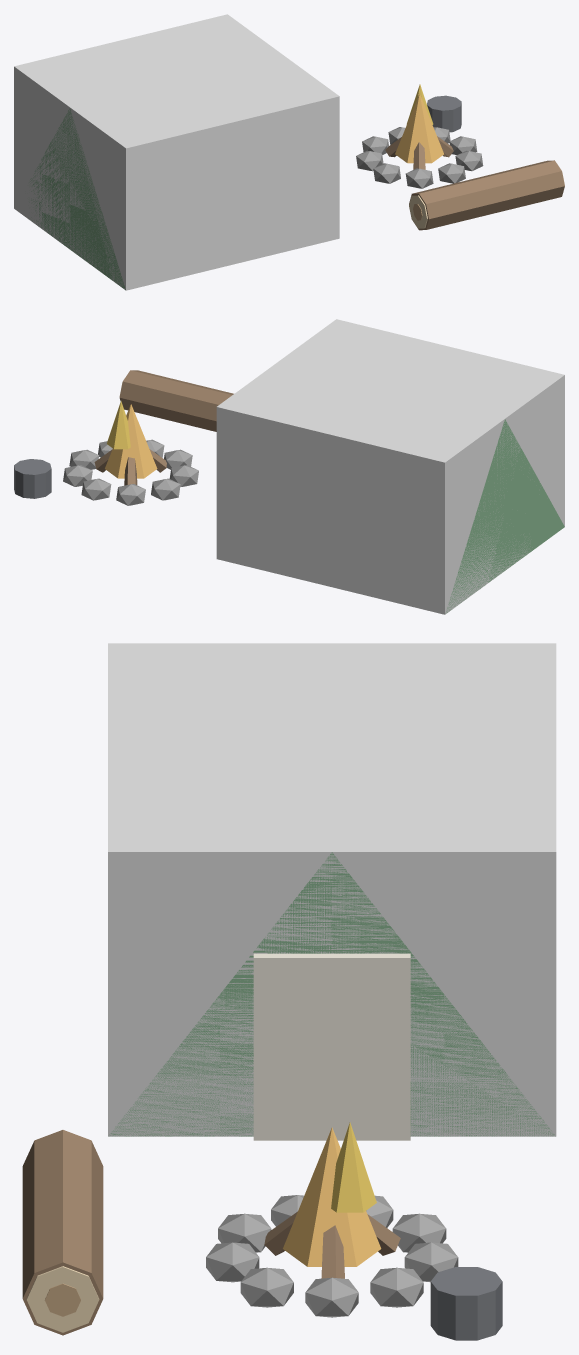
The model's file is Campsite.fbx.
The picture shows the model from 3 angles, top to bottom: view 1: azimuth 30°, elevation 25°; view 2: azimuth 150°, elevation 25°; view 3: azimuth 270°, elevation 25°; orthographic projection. The views are drawn at different scales.
Visible parts, largest first — view 1: COL_Tent, Campsite_Mesh; view 2: COL_Tent, Campsite_Mesh; view 3: COL_Tent, Campsite_Mesh.
Boxes of the visible parts, x1,y1,x2,y2 form: COL_Tent: [14, 14, 339, 290]; Campsite_Mesh: [29, 84, 564, 290]; COL_Tent: [216, 319, 564, 614]; Campsite_Mesh: [14, 370, 564, 613]; COL_Tent: [108, 643, 556, 1136]; Campsite_Mesh: [22, 852, 555, 1340].
Size of the model in its own units: 4.35 by 1.43 by 2.38.
